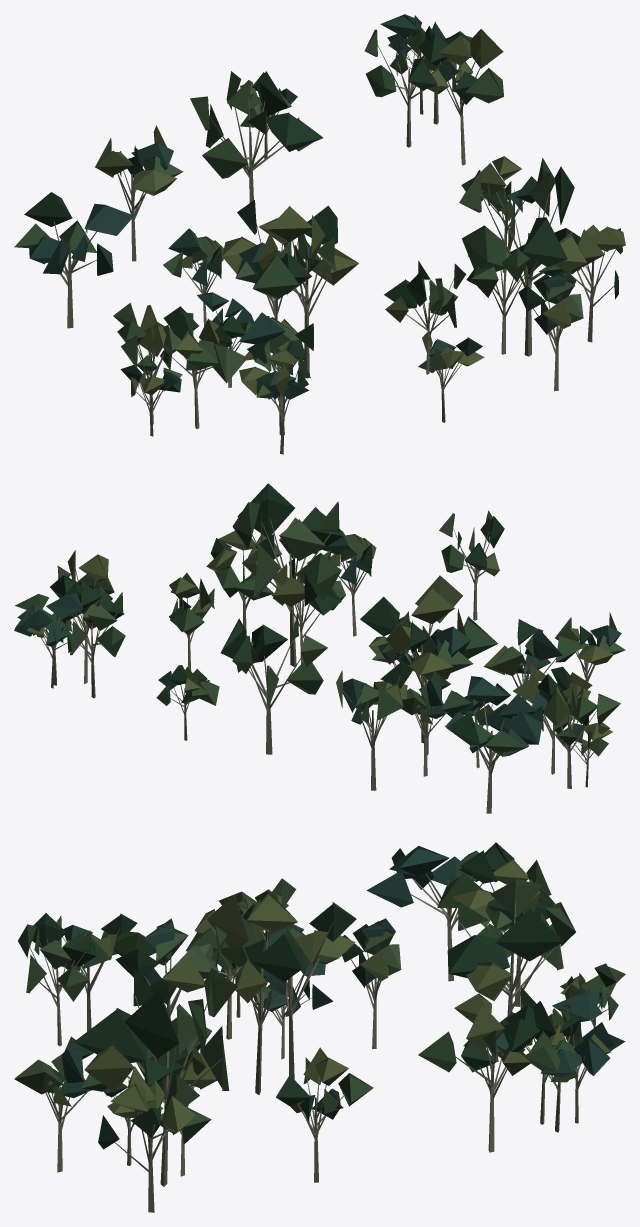
File: forest_19_21.dae
3 views of the same model, one above another, from view 1: azimuth 30°, elevation 25°; view 2: azimuth 150°, elevation 25°; view 3: azimuth 270°, elevation 25° (orthographic). The views are drawn at different scales.
Parts seen in each view (by area): view 1: Node; view 2: Node; view 3: Node.
Boxes of the visible parts, x1,y1,x2,y2 form: Node: (14, 14, 625, 454); Node: (14, 483, 625, 813); Node: (14, 842, 625, 1212).
Bounding box in the file's own units: 10.91 × 10.03 × 4.83.
